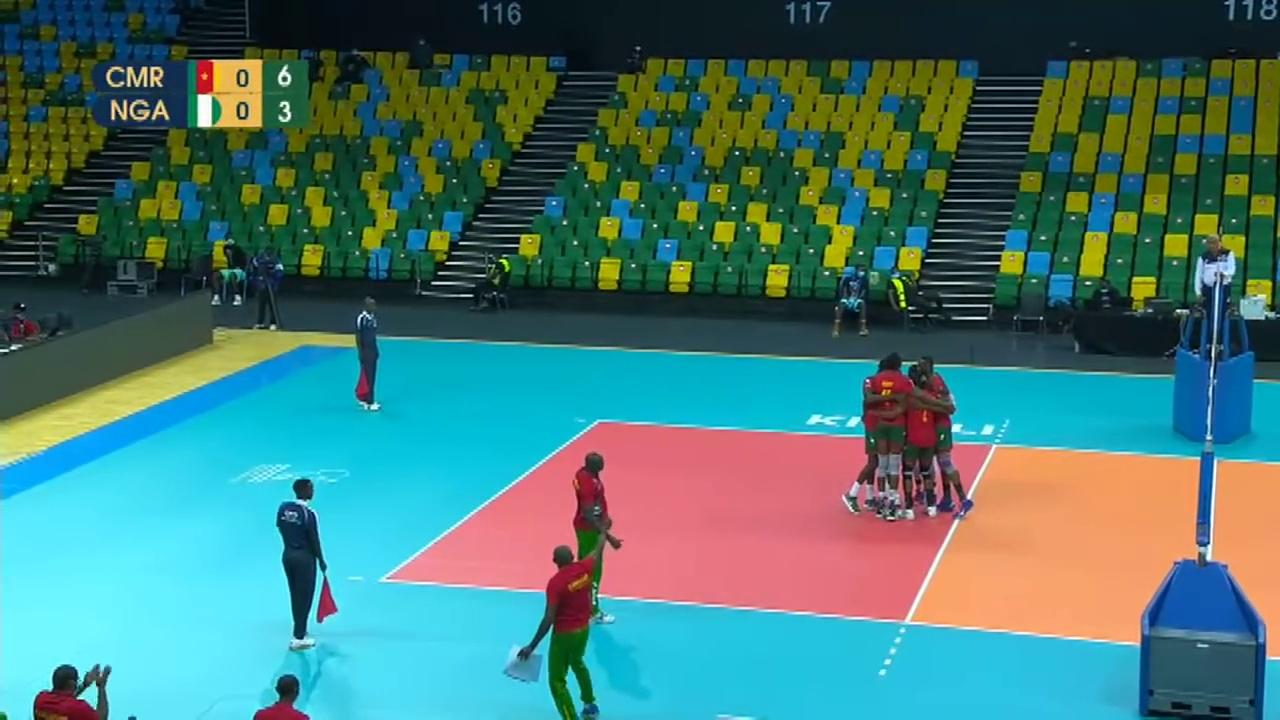player: (919, 354, 975, 524), (873, 356, 909, 522), (848, 363, 887, 511), (905, 366, 937, 521)
refree: (276, 481, 338, 643), (1194, 233, 1239, 356), (351, 298, 379, 409)
